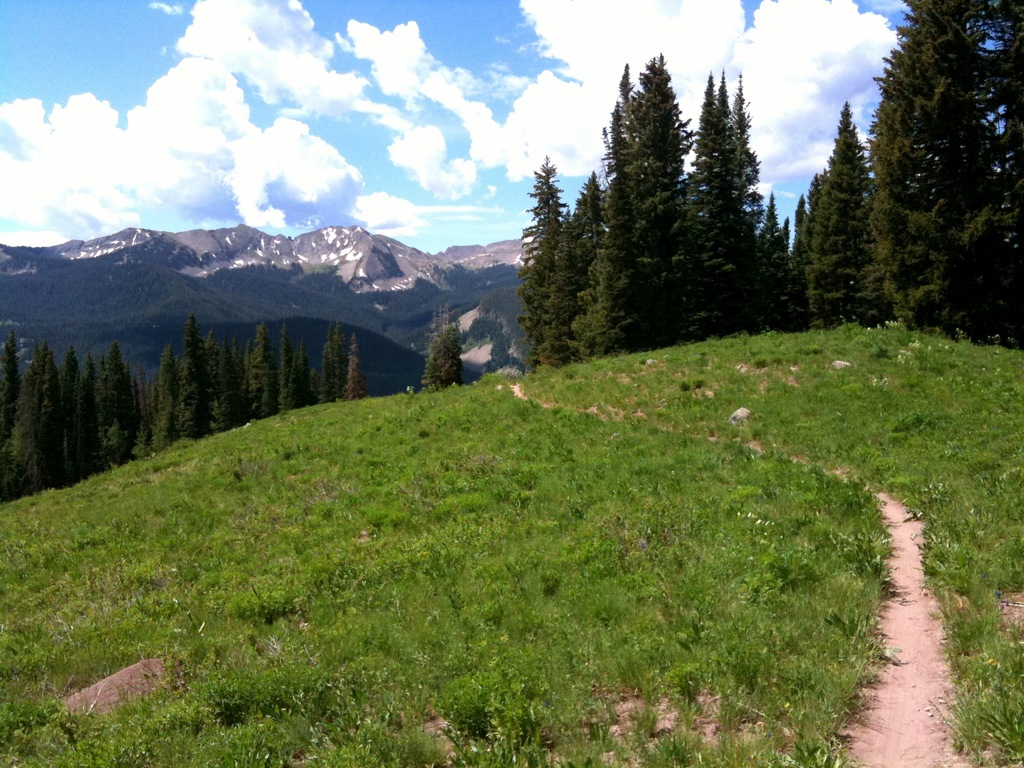Tree: (515, 0, 1023, 366), (0, 327, 367, 504), (418, 299, 465, 384)
